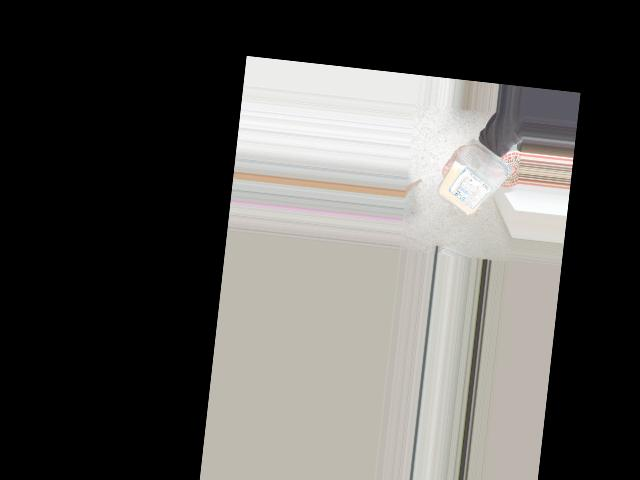cheese: (440, 143, 509, 221)
